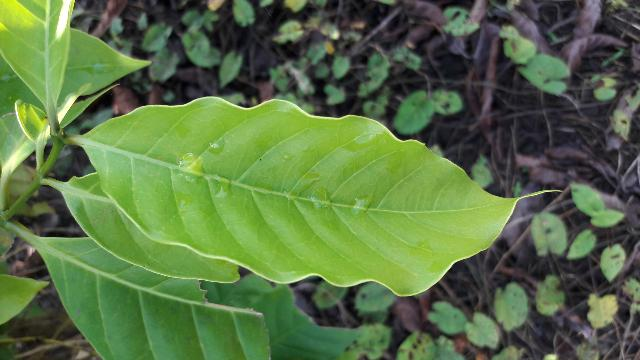healthy: (79, 96, 527, 296)
